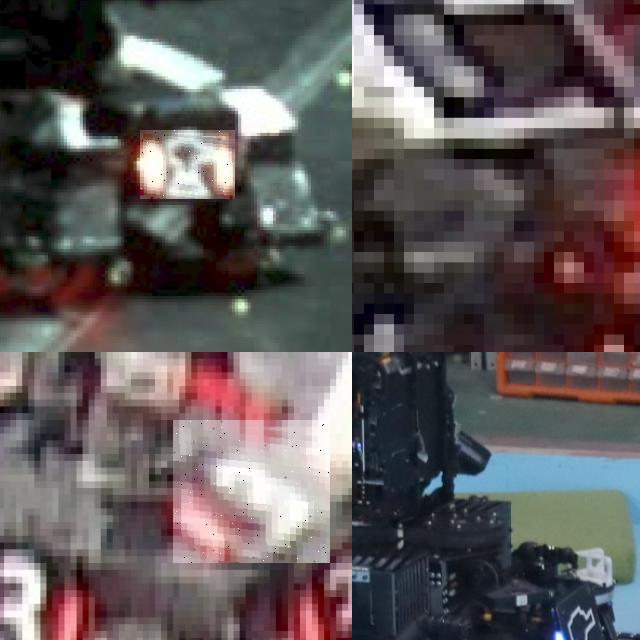Bs: (551, 599, 609, 640)
R3: (173, 420, 330, 563), (0, 522, 88, 640), (294, 549, 352, 640)
Rs: (140, 130, 235, 199)
